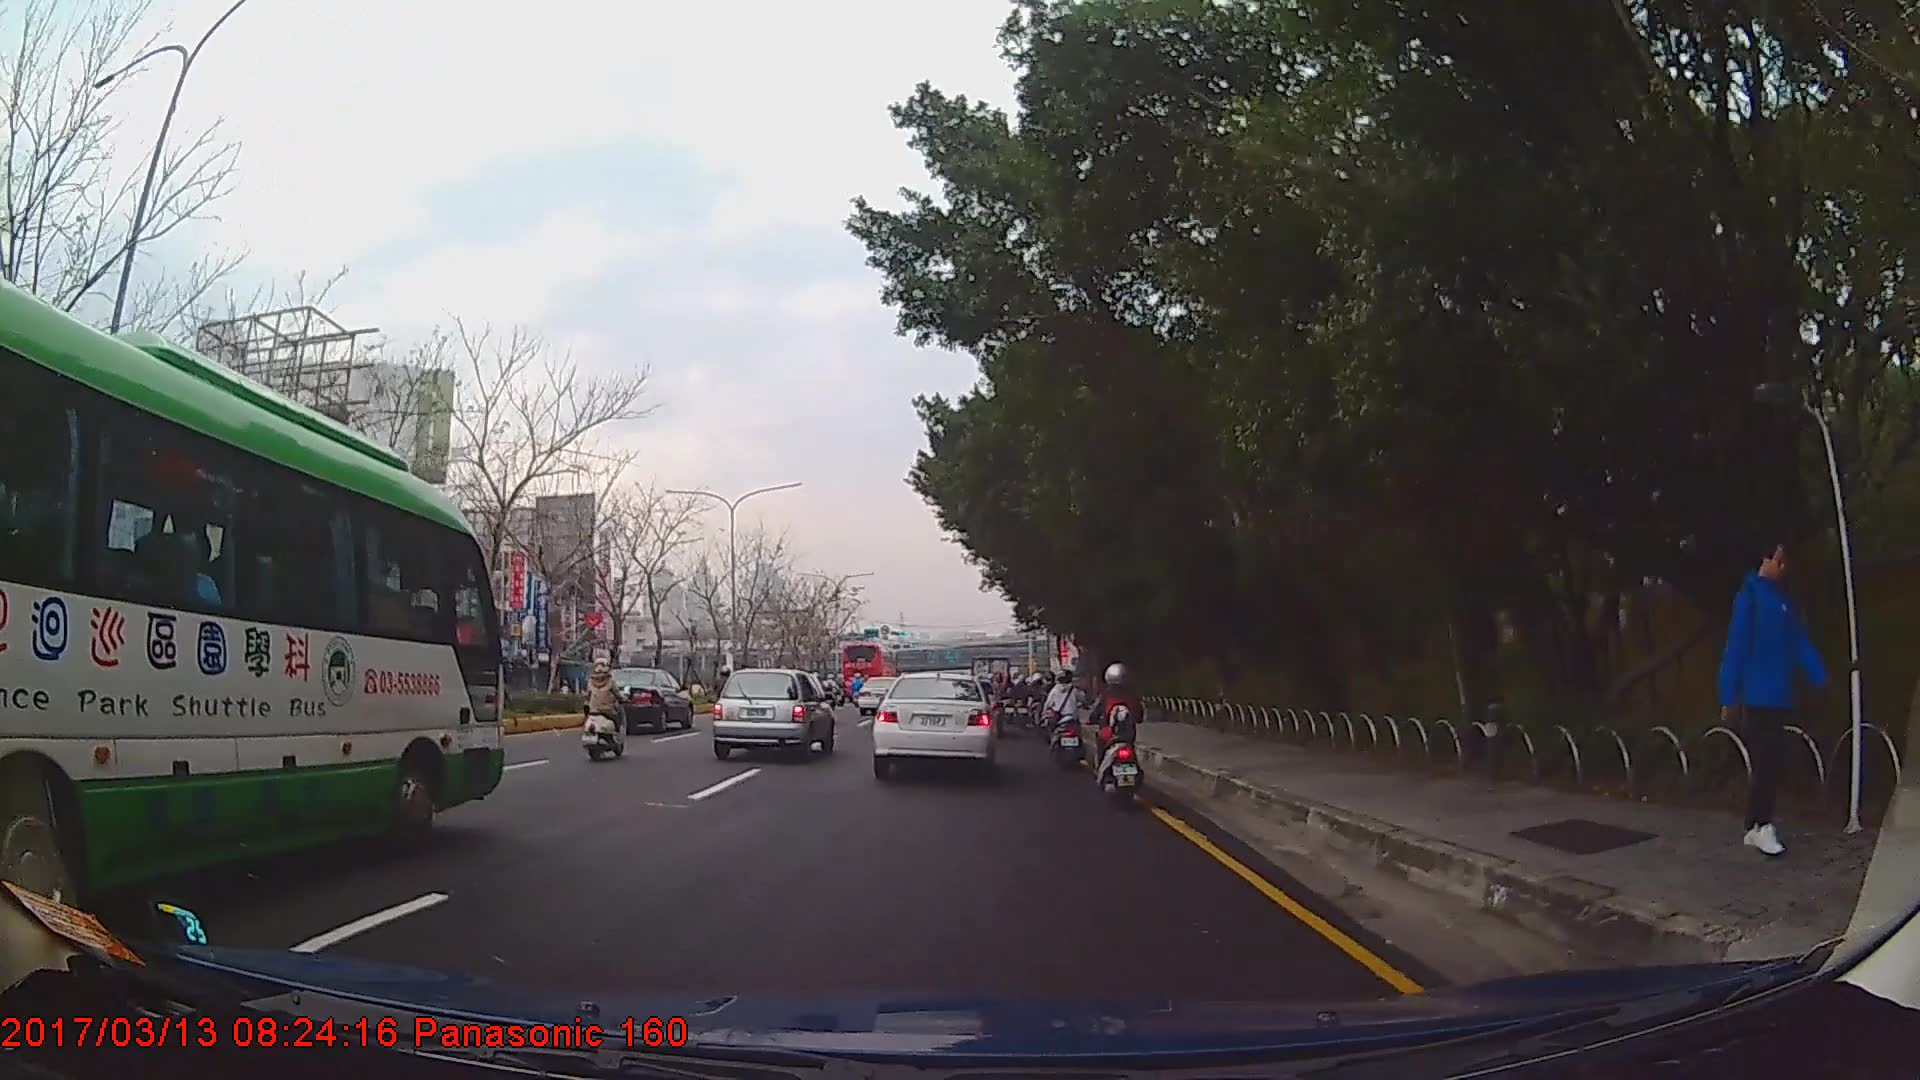pedestrian: (1720, 537, 1820, 854)
rider: (1092, 664, 1149, 806), (1044, 660, 1088, 765), (585, 662, 631, 760), (1039, 671, 1061, 750)
vehicle: (0, 272, 506, 939), (871, 671, 997, 777), (712, 665, 835, 757), (582, 666, 692, 734), (834, 640, 898, 699)
